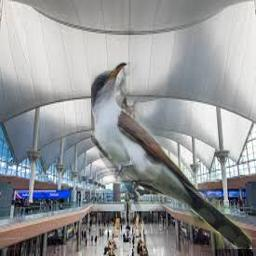Cuckoo: (91, 62, 252, 249)
